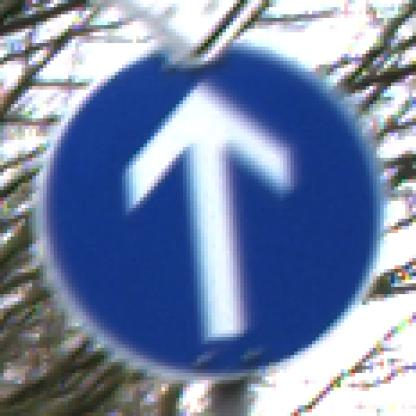AheadOnly: (41, 41, 381, 381)
